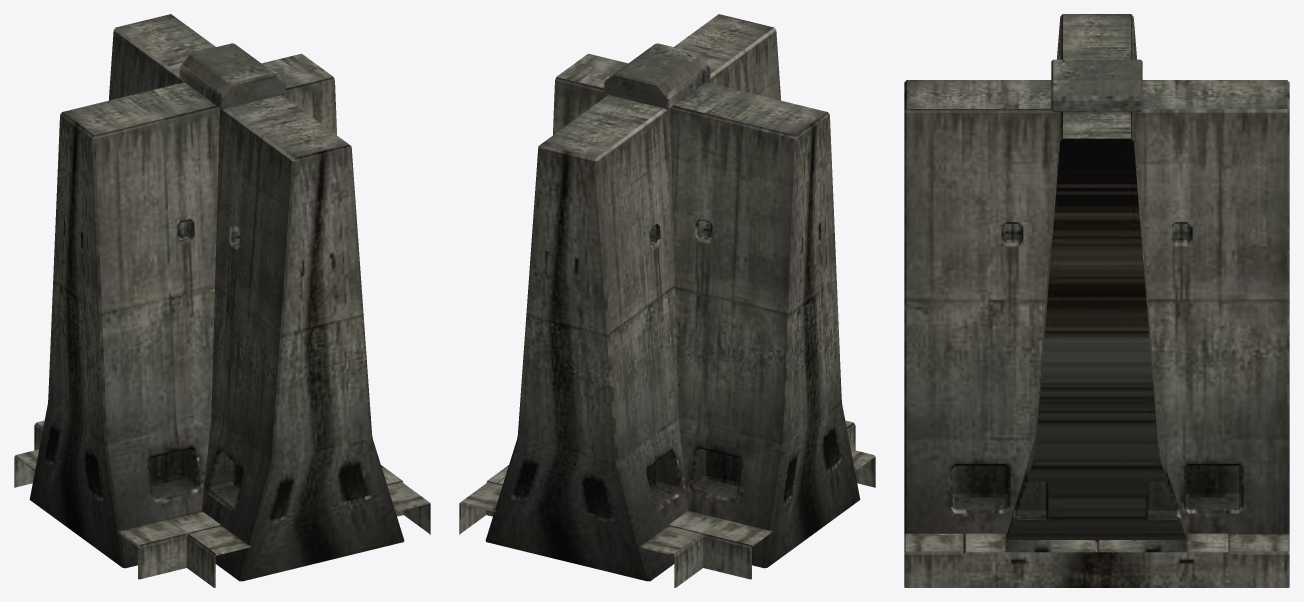
The model's file is stone-wall-nsw.glb.
3 views of the same model, side by side, from view 1: azimuth 30°, elevation 25°; view 2: azimuth 150°, elevation 25°; view 3: azimuth 270°, elevation 25° (orthographic). The views are drawn at different scales.
Parts seen in each view (by area): view 1: body; view 2: body; view 3: body.
Part boxes in pixels (x1,y1,x2,y2): body: [14, 14, 430, 587]; body: [459, 14, 875, 587]; body: [904, 14, 1289, 587].
Bounding box in the file's own units: 0.8466 × 1.32 × 1.
1 material, 1 textured.
